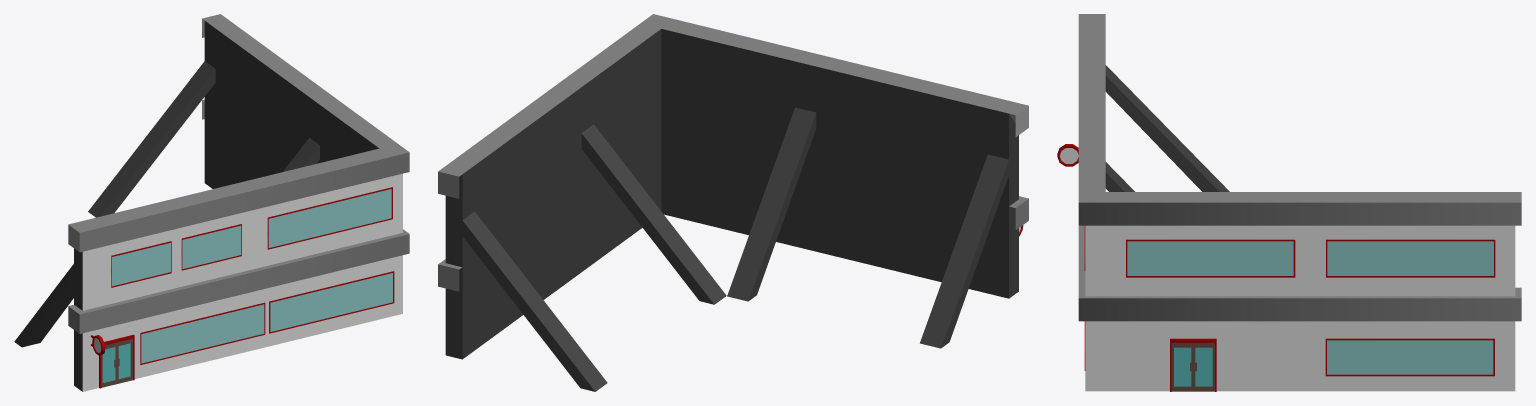
Rendered from Prop_BuildingFake2Story_Mod_01.fbx.
The picture shows the model from 3 angles, left to right: view 1: azimuth 30°, elevation 25°; view 2: azimuth 150°, elevation 25°; view 3: azimuth 270°, elevation 25°; orthographic projection. The views are drawn at different scales.
Parts seen in each view (by area): view 1: FakeBuilding2, Window8, Window, Window9, Support, Window11, Window10, Support3, Door49, Door48, Support1; view 2: FakeBuilding2, Support2, Support3, Support, Support1; view 3: FakeBuilding2, Window4, Window5, Window6, Support3, DoorLeft11, DoorRight13, Support2, polySurface7, Sign10.
Part boxes in pixels (<box>): FakeBuilding2: <box>68,14,409,391</box>; Window8: <box>267,187,392,249</box>; Window: <box>140,302,265,364</box>; Window9: <box>269,271,394,333</box>; Support: <box>88,61,215,217</box>; Window11: <box>111,241,171,287</box>; Window10: <box>181,224,241,270</box>; Support3: <box>14,264,73,347</box>; Door49: <box>117,338,132,383</box>; Door48: <box>101,342,116,387</box>; Support1: <box>283,137,319,171</box>; FakeBuilding2: <box>438,14,1028,359</box>; Support2: <box>727,107,816,301</box>; Support3: <box>920,154,1008,348</box>; Support: <box>462,211,607,391</box>; Support1: <box>581,124,726,304</box>; FakeBuilding2: <box>1078,14,1521,391</box>; Window4: <box>1326,239,1495,277</box>; Window5: <box>1126,239,1295,277</box>; Window6: <box>1325,338,1494,376</box>; Support3: <box>1105,65,1229,191</box>; DoorLeft11: <box>1171,343,1193,391</box>; DoorRight13: <box>1193,343,1214,391</box>; Support2: <box>1105,162,1134,191</box>; polySurface7: <box>1170,338,1216,391</box>; Sign10: <box>1057,144,1078,166</box>.
Size of the model in its own units: 17.67 by 8.32 by 18.38.
